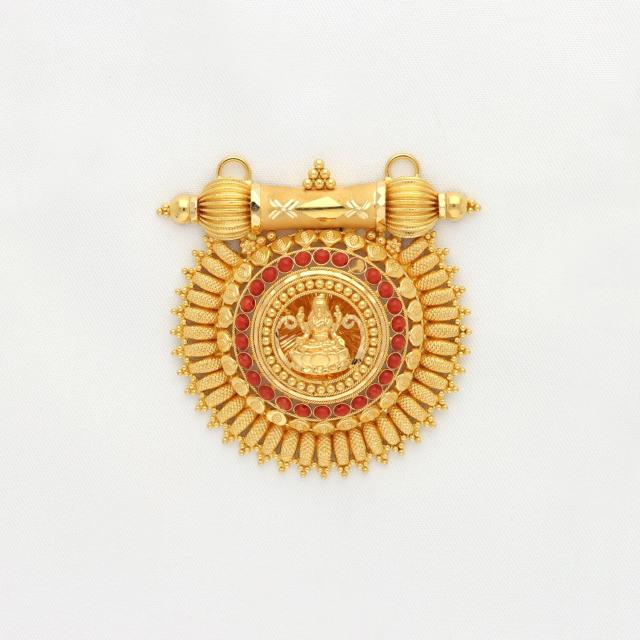missing gem: (349, 258, 365, 273)
